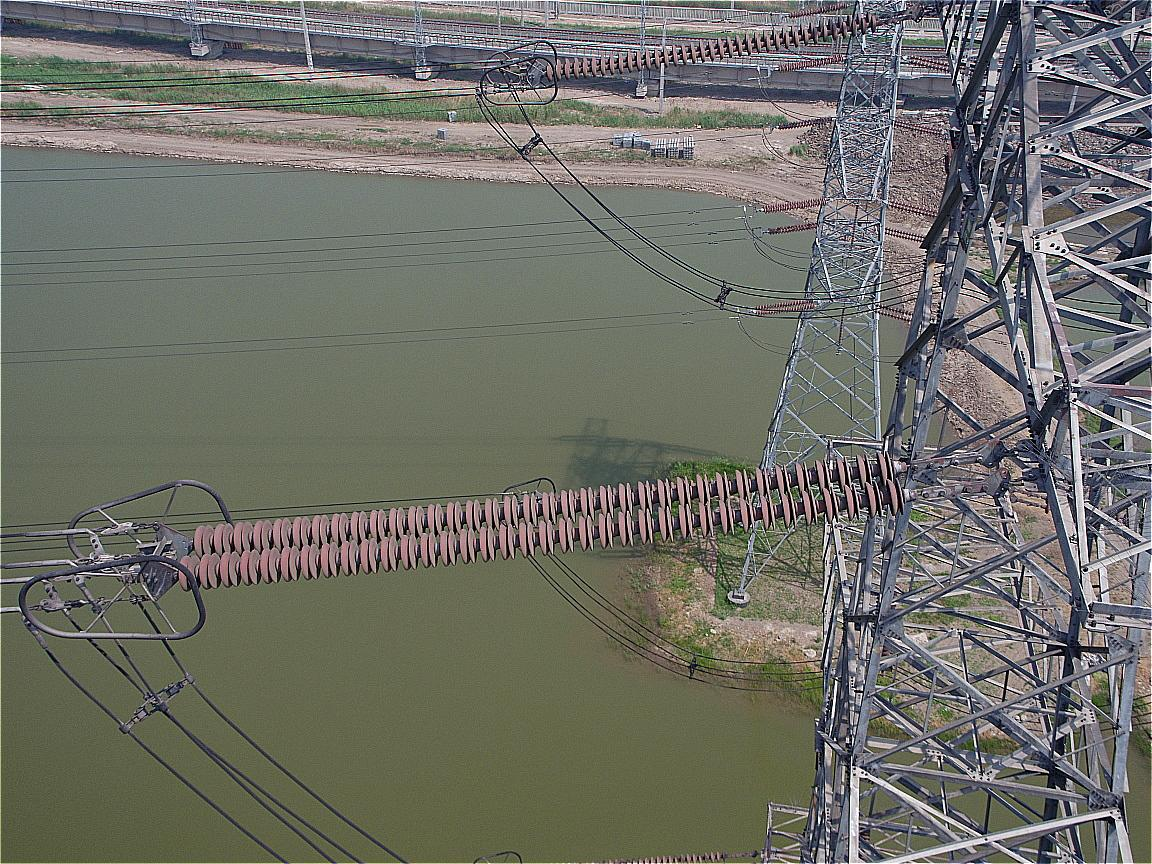insultor1: (546, 10, 879, 79), (753, 295, 819, 320), (776, 53, 845, 74), (768, 219, 823, 240), (764, 198, 830, 214), (779, 114, 834, 133), (895, 118, 943, 137), (889, 200, 937, 219)
insultor2: (177, 450, 904, 593)
